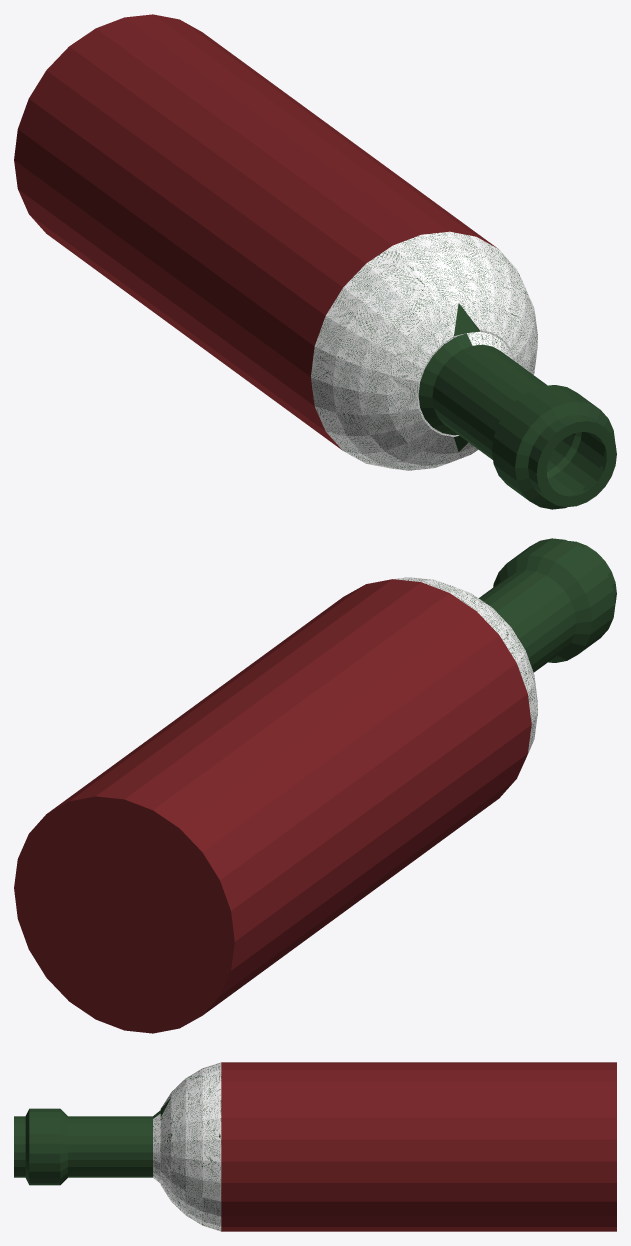
3 views of the same model, one above another, from view 1: azimuth 30°, elevation 25°; view 2: azimuth 150°, elevation 25°; view 3: azimuth 270°, elevation 25° (orthographic). The views are drawn at different scales.
Visible parts, largest first — view 1: wine bottle; view 2: wine bottle; view 3: wine bottle.
Part boxes in pixels (x1,y1,x2,y2): wine bottle: (14,14,616,509); wine bottle: (14,538,616,1033); wine bottle: (14,1062,616,1231).
Bounding box in the file's own units: 5.5 × 5.5 × 19.52.
